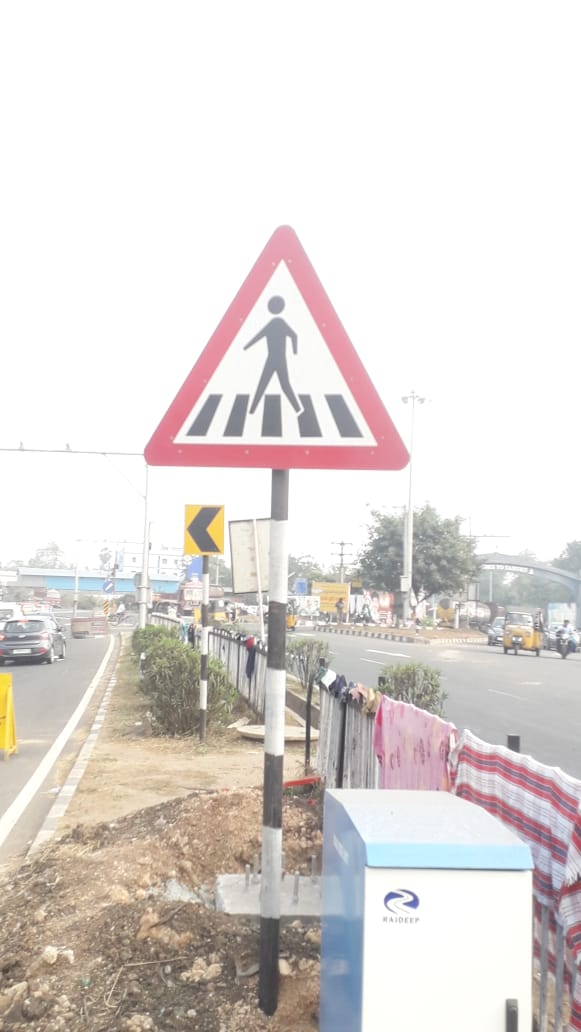pedestrian crossing: (120, 215, 436, 481)
